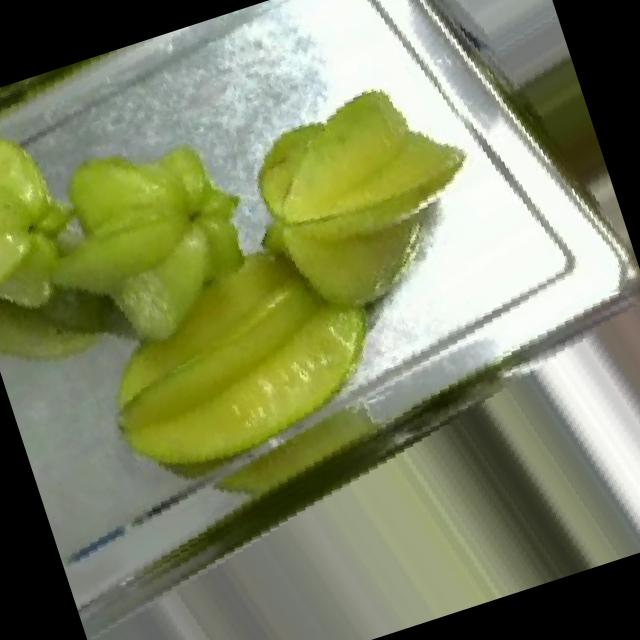fruit: (27, 158, 451, 540), (204, 31, 537, 366), (0, 77, 108, 346), (565, 240, 640, 544)
